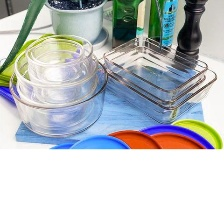bottle: (144, 0, 180, 58), (107, 0, 141, 54)
plastic_box: (2, 29, 114, 141), (95, 32, 220, 129)
